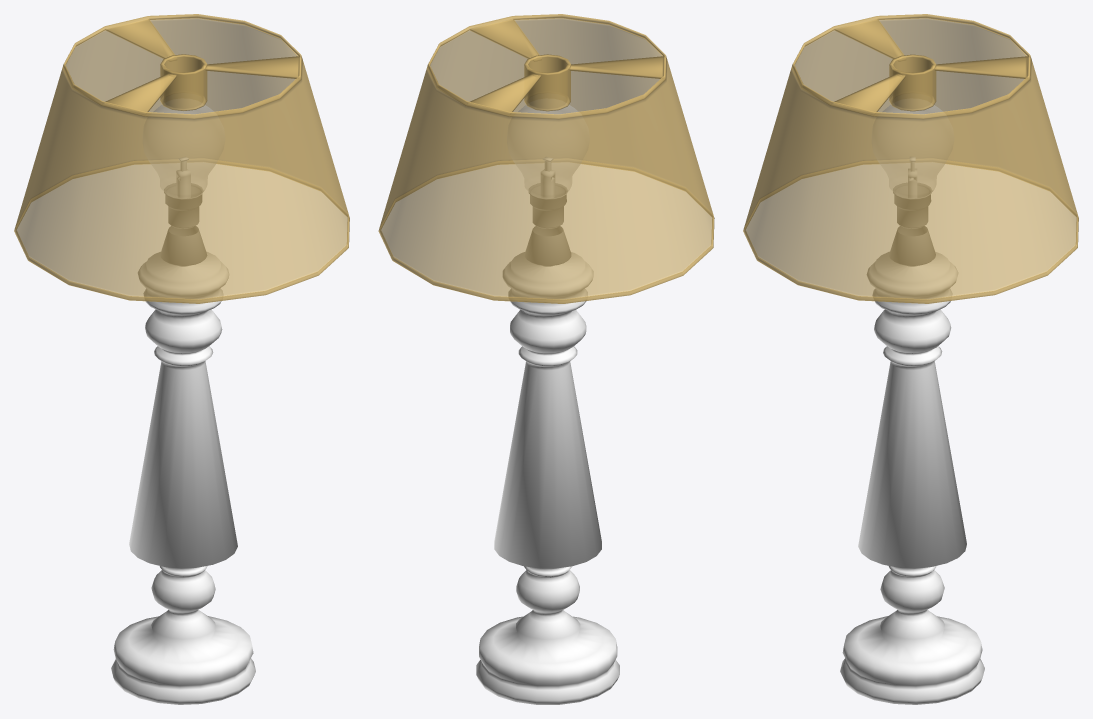
Rendered from Table Lamp.glb.
The picture shows the model from 3 angles, left to right: view 1: azimuth 30°, elevation 25°; view 2: azimuth 150°, elevation 25°; view 3: azimuth 270°, elevation 25°; orthographic projection.
Parts seen in each view (by area): view 1: lamp_head, Circle, bulb, lamp_head_holder, Circle_1, bulb_holder; view 2: lamp_head, Circle, bulb, lamp_head_holder, Circle_1, bulb_holder; view 3: lamp_head, Circle, bulb, lamp_head_holder, Circle_1, bulb_holder.
Boxes of the visible parts, box(x1,y1,x2,y2) form: lamp_head: box(14, 14, 349, 303); Circle: box(111, 252, 255, 704); bulb: box(143, 105, 224, 197); lamp_head_holder: box(160, 54, 207, 110); Circle_1: box(160, 226, 206, 266); bulb_holder: box(164, 183, 202, 228); lamp_head: box(378, 14, 714, 303); Circle: box(476, 252, 619, 704); bulb: box(507, 105, 589, 197); lamp_head_holder: box(524, 54, 570, 111); Circle_1: box(525, 226, 570, 266); bulb_holder: box(529, 183, 567, 228); lamp_head: box(743, 14, 1078, 303); Circle: box(840, 252, 984, 704); bulb: box(872, 105, 953, 197); lamp_head_holder: box(889, 54, 936, 111); Circle_1: box(889, 226, 935, 266); bulb_holder: box(893, 183, 931, 228).
Size of the model in its own units: 1.95 by 3.89 by 1.94.
